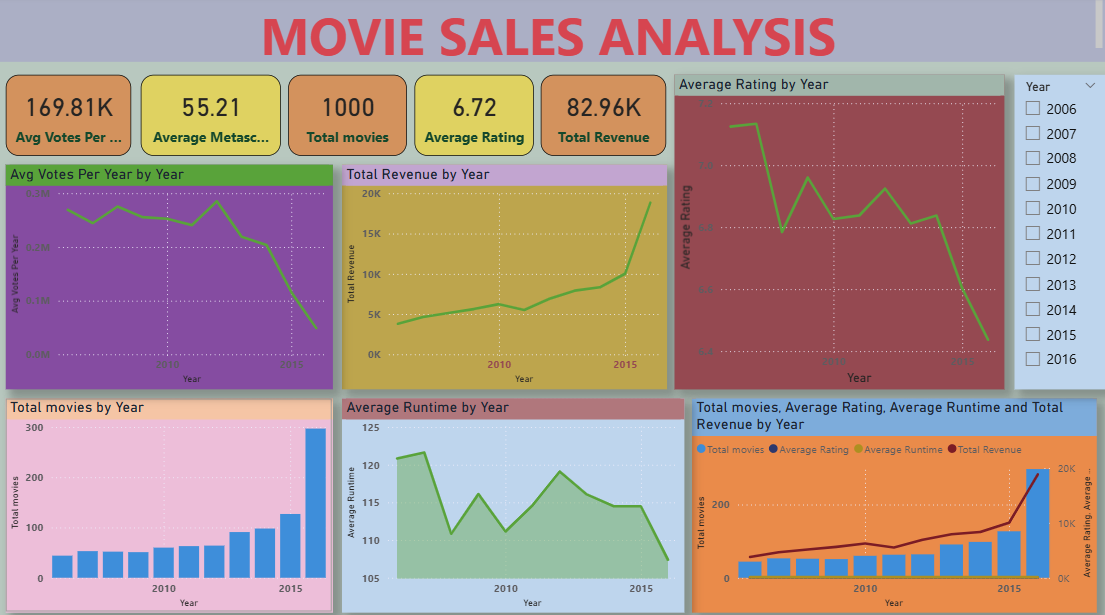

This screenshot's page, from the dashboard's own definition file:
{"tool":"powerbi","page":{"name":" Movie Overview & Time ","canvas":[1280,720],"ordinal":0},"visuals":[{"type":"card","fields":{"Values":["IMDB-Movie-Data.Total movies"]},"box":[335.6,91.1,136.6,93.5],"z":0},{"type":"card","fields":{"Values":["IMDB-Movie-Data.Total Revenue"]},"box":[628,91.1,145,93.5],"z":1000},{"type":"card","fields":{"Values":["IMDB-Movie-Data.Average Rating"]},"box":[481.8,91.1,137.8,93.5],"z":2000},{"type":"card","fields":{"Values":["IMDB-Movie-Data.Average Metascore"]},"box":[165.4,91.1,161.8,93.5],"z":3000},{"type":"card","fields":{"Values":["IMDB-Movie-Data.Avg Votes Per Year"]},"box":[9.6,91.1,145,93.5],"z":4000},{"type":"columnChart","fields":{"Category":["IMDB-Movie-Data.Year"],"Y":["IMDB-Movie-Data.Total movies"]},"box":[9.6,465,377.5,246.9],"z":5000},{"type":"lineChart","fields":{"Category":["IMDB-Movie-Data.Year"],"Y":["IMDB-Movie-Data.Total Revenue"]},"box":[397.9,195.4,375.1,258.9],"z":6000},{"type":"lineChart","fields":{"Category":["IMDB-Movie-Data.Year"],"Y":["IMDB-Movie-Data.Average Rating"]},"box":[781.4,91.1,381.1,363.1],"z":7000},{"type":"lineClusteredColumnComboChart","fields":{"Category":["IMDB-Movie-Data.Year"],"Y":["IMDB-Movie-Data.Total movies"],"Y2":["IMDB-Movie-Data.Average Rating","IMDB-Movie-Data.Average Runtime","IMDB-Movie-Data.Total Revenue"]},"box":[801.8,465,467.4,246.9],"z":8000},{"type":"areaChart","fields":{"Category":["IMDB-Movie-Data.Year"],"Y":["IMDB-Movie-Data.Average Runtime"]},"box":[397.9,465,395.5,246.9],"z":9000},{"type":"lineChart","fields":{"Category":["IMDB-Movie-Data.Year"],"Y":["IMDB-Movie-Data.Avg Votes Per Year"]},"box":[9.6,195.4,377.5,258.9],"z":10000},{"type":"slicer","fields":{"Values":["IMDB-Movie-Data.Year"]},"box":[1174.5,91.1,106.7,363.1],"z":11000},{"type":"textbox","box":[0,0,1280.6,75.6],"z":12000}]}

Visuals, with their boxes in screenshot pixels (x1, y1, x2, y2), scaled from the page's 1280x720 canvas onto the 1105x615 screenshot:
card - IMDB-Movie-Data.Total movies: [290, 78, 408, 158]
card - IMDB-Movie-Data.Total Revenue: [542, 78, 667, 158]
card - IMDB-Movie-Data.Average Rating: [416, 78, 535, 158]
card - IMDB-Movie-Data.Average Metascore: [143, 78, 282, 158]
card - IMDB-Movie-Data.Avg Votes Per Year: [8, 78, 133, 158]
columnChart - IMDB-Movie-Data.Year x IMDB-Movie-Data.Total movies: [8, 397, 334, 608]
lineChart - IMDB-Movie-Data.Year x IMDB-Movie-Data.Total Revenue: [343, 167, 667, 388]
lineChart - IMDB-Movie-Data.Year x IMDB-Movie-Data.Average Rating: [675, 78, 1004, 388]
lineClusteredColumnComboChart - IMDB-Movie-Data.Year x IMDB-Movie-Data.Total movies: [692, 397, 1096, 608]
areaChart - IMDB-Movie-Data.Year x IMDB-Movie-Data.Average Runtime: [343, 397, 685, 608]
lineChart - IMDB-Movie-Data.Year x IMDB-Movie-Data.Avg Votes Per Year: [8, 167, 334, 388]
slicer - IMDB-Movie-Data.Year: [1014, 78, 1104, 388]
textbox: [0, 0, 1104, 65]
